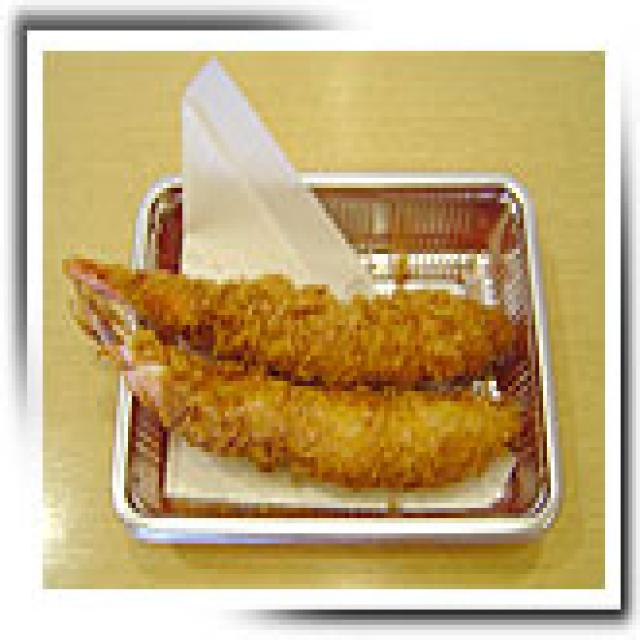炸货点心: (50, 198, 547, 498)
熟制海鲜: (50, 198, 547, 498)
